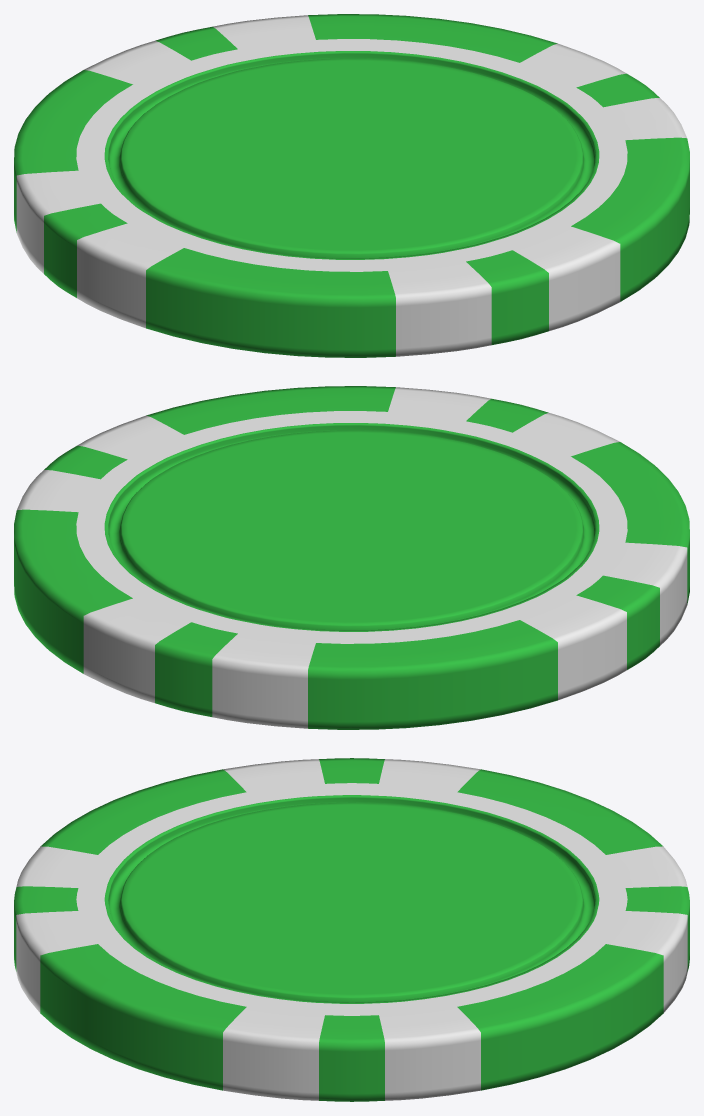
File: Chip_Green.glb
The picture shows the model from 3 angles, top to bottom: view 1: azimuth 30°, elevation 25°; view 2: azimuth 150°, elevation 25°; view 3: azimuth 270°, elevation 25°; orthographic projection.
Parts seen in each view (by area): view 1: Chip; view 2: Chip; view 3: Chip.
Boxes of the visible parts, box(x1,y1,x2,y2) form: Chip: box(14, 14, 689, 357); Chip: box(14, 386, 689, 729); Chip: box(14, 758, 689, 1101).
Size of the model in its own units: 2 by 0.1988 by 2.
